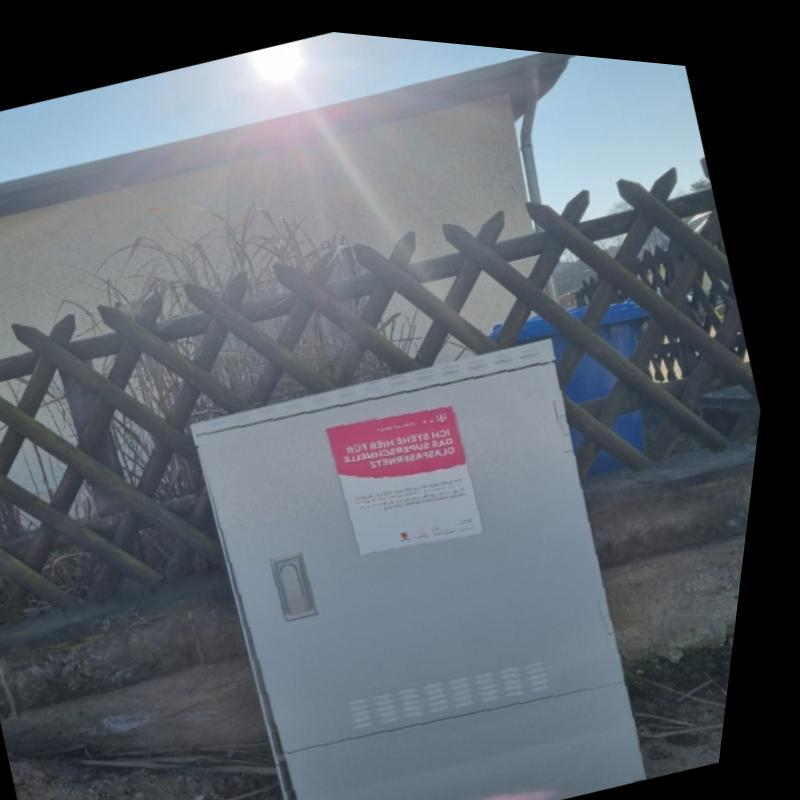NT-Gehause: (166, 301, 707, 800)
Steaker: (319, 381, 506, 568)
